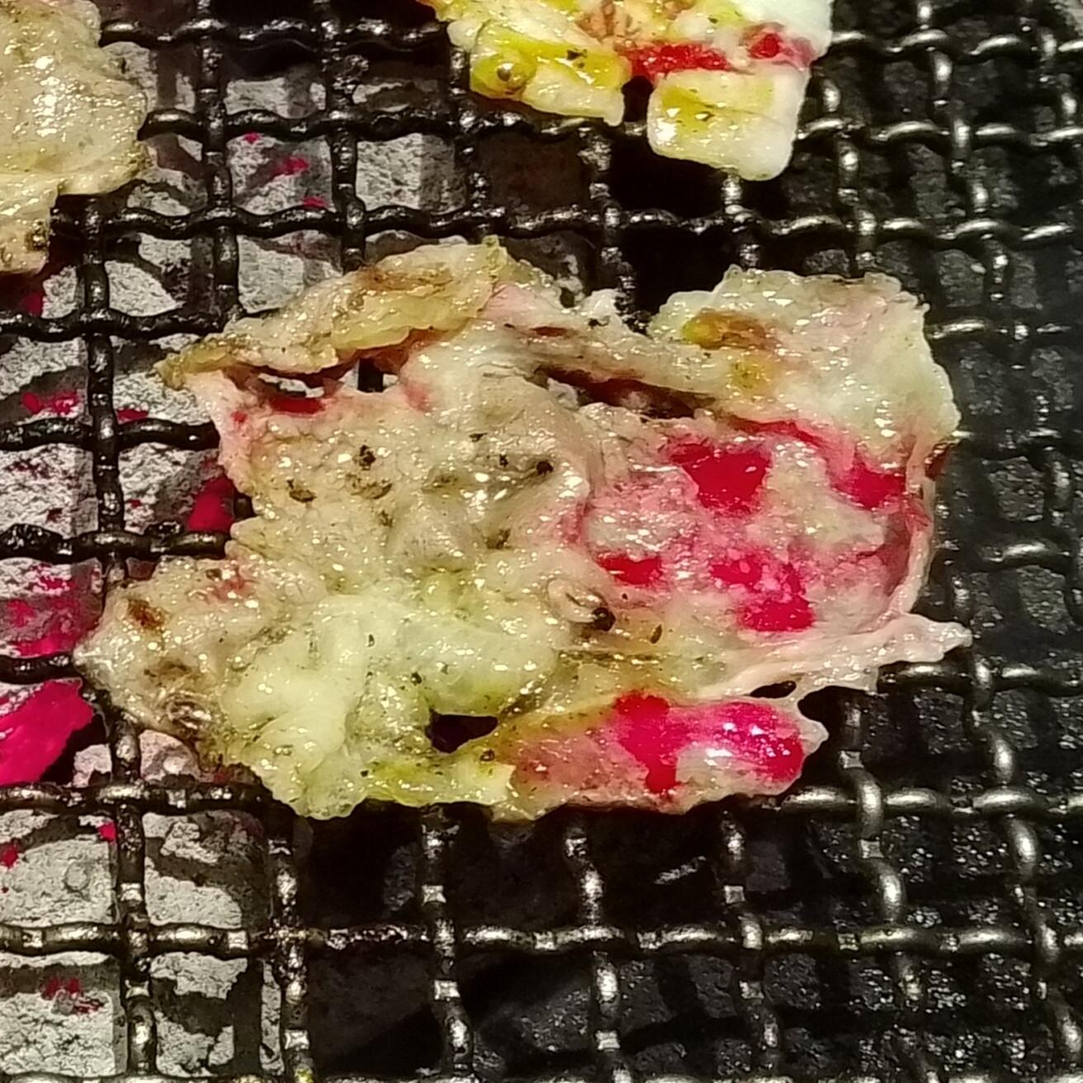Overcooked: (0, 0, 158, 285)
Undercooked: (61, 235, 966, 839), (417, 0, 834, 182)
